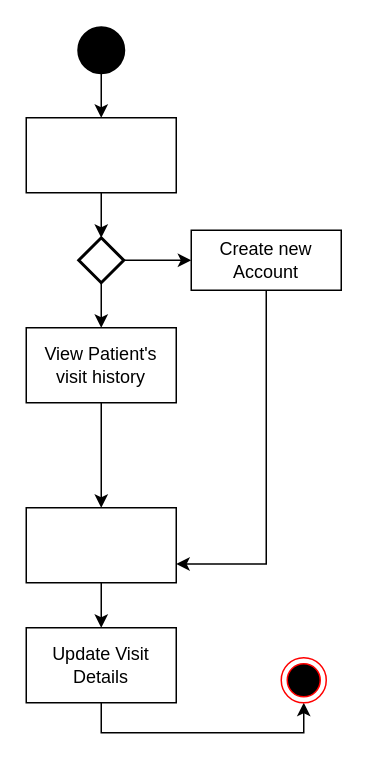
Some shapes in this 368 by 771 pixel diagram are drawn without their labels. Here are the shapes that lost their labels. From the top down, the centre of each, then its label:
At (100,154): "Search for patient".
At (100,544): "Record New Visit".
